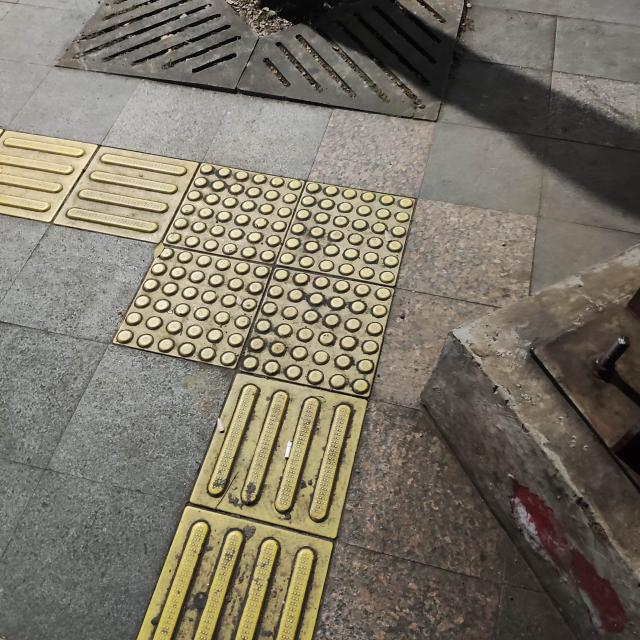kiri: (4, 113, 434, 474)
